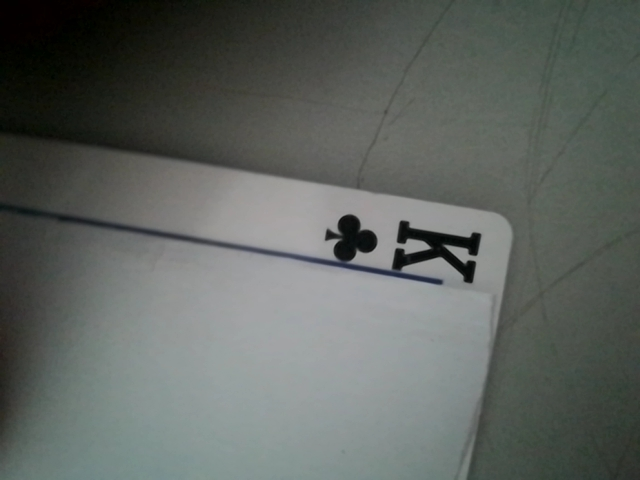mh k: (306, 203, 491, 287)
